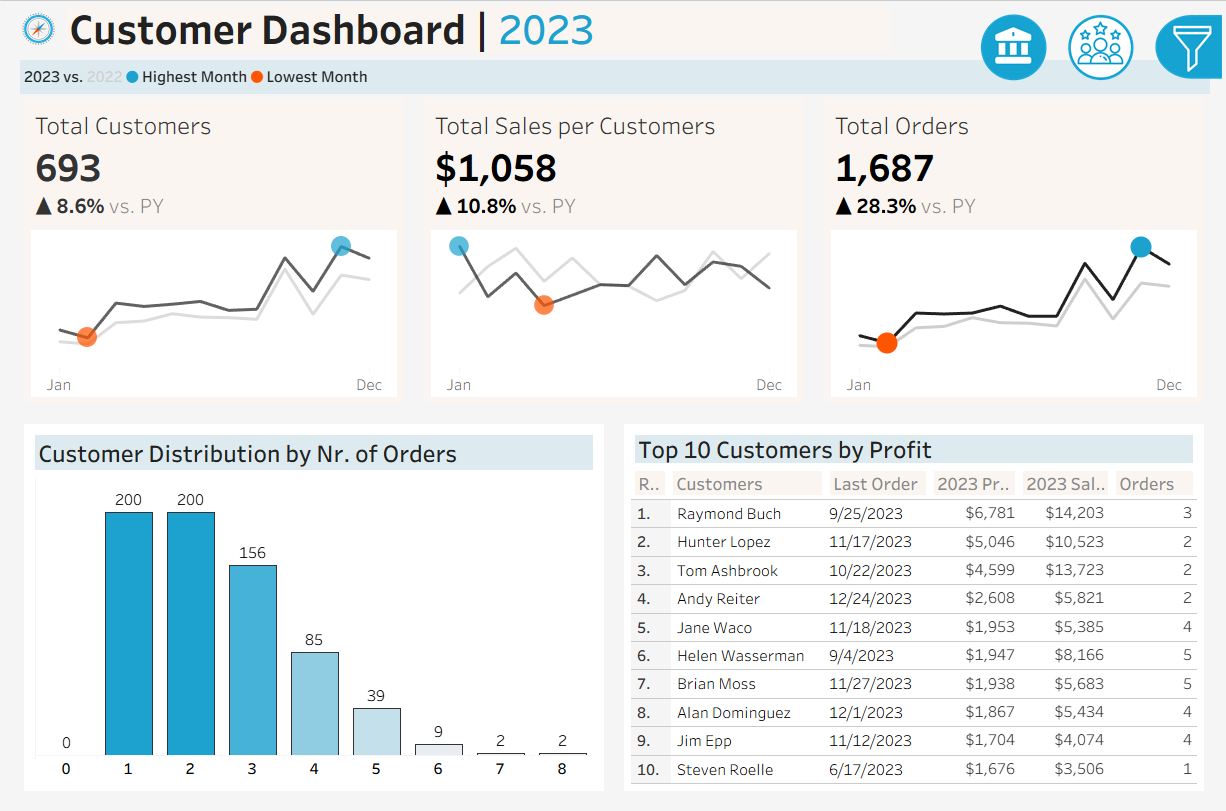

The dashboard page shown, as its layout file describes it:
{"tool":"tableau","page":{"name":"Customer Dashboard","canvas":[1200,800],"ordinal":0},"visuals":[{"type":"image","param":"C:/Users/HP Elitebook 830 G5/Desktop/Barra/Projects/Tableau/Sales Dashboard/Sale","box":[0,0,48,55]},{"type":"text","box":[48,0,832,55]},{"type":"dashboard-object","box":[955,8,88,76]},{"type":"dashboard-object","box":[1043,8,87,76]},{"type":"blank","box":[971,10,222,81]},{"type":"worksheet","title":"Legend KPI","mark":"Automatic","box":[0,55,1200,42]},{"type":"text","box":[971,91,222,47]},{"type":"worksheet","title":"KPI Customers","mark":"Line","rows":["Min/Max Profit (copy)_241787058667311113"],"cols":["Order Date"],"box":[0,97,400,316]},{"type":"worksheet","title":"KPI Sales/Customers","mark":"Automatic","rows":["Min/Max Orders (copy)_241787058667548683"],"cols":["Order Date"],"box":[400,97,400,316]},{"type":"worksheet","title":"KPI Orders","mark":"Line","rows":["Min/Max Customers (copy)_241787058667397130"],"cols":["Order Date"],"box":[800,97,400,316]},{"type":"parameter","param":"[Parameters].[Parameter 1]","box":[971,138,222,60]},{"type":"text","box":[971,198,222,39]},{"type":"filter","title":"KPI Customers","param":"[federated.1dxhorm0lmgu241a8lsme1jk4mp3].[none:Category:nk]","box":[971,237,222,70]},{"type":"filter","title":"KPI Customers","param":"[federated.1dxhorm0lmgu241a8lsme1jk4mp3].[none:Sub-Category:nk]","box":[971,307,222,70]},{"type":"blank","box":[971,377,222,65]},{"type":"text","box":[17,430,566,43]},{"type":"text","box":[617,430,566,35.6]},{"type":"text","box":[971,442,222,39]},{"type":"text","box":[617,465.6,38,32.4]},{"type":"text","box":[655,465.6,157,32.4]},{"type":"text","box":[812,465.6,104,32.4]},{"type":"text","box":[916,465.6,89,32.4]},{"type":"text","box":[1005,465.6,93,32.4]},{"type":"text","box":[1098,465.6,85,32.4]},{"type":"worksheet","title":"Customers Distribution","mark":"Bar","rows":["CY Profit (copy)_241787058661007360"],"cols":["Calculation_1404560187518042112"],"box":[17,473,566,310]},{"type":"filter","title":"KPI Customers","param":"[federated.1dxhorm0lmgu241a8lsme1jk4mp3].[none:Region:nk]","box":[971,481,222,70]},{"type":"worksheet","title":"Top Customers","mark":"Automatic","rows":["Calculation_1404560187523313667","Customer Name","Order Date"],"box":[617,498,566,285]},{"type":"filter","title":"KPI Customers","param":"[federated.1dxhorm0lmgu241a8lsme1jk4mp3].[none:State:nk]","box":[971,551,222,70]},{"type":"filter","title":"KPI Customers","param":"[federated.1dxhorm0lmgu241a8lsme1jk4mp3].[none:City:nk]","box":[971,621,222,70]}]}

Visuals, with their boxes in screenshot pixels (x1, y1, x2, y2), scaled from the page's 1200x800 canvas onto the 1226x811 screenshot:
image: Rect(0, 0, 49, 56)
text: Rect(49, 0, 899, 56)
dashboard-object: Rect(976, 8, 1066, 85)
dashboard-object: Rect(1066, 8, 1154, 85)
blank: Rect(992, 10, 1219, 92)
"Legend KPI" worksheet: Rect(0, 56, 1225, 98)
text: Rect(992, 92, 1219, 140)
"KPI Customers" worksheet (Line marks): Rect(0, 98, 409, 419)
"KPI Sales/Customers" worksheet: Rect(409, 98, 817, 419)
"KPI Orders" worksheet (Line marks): Rect(817, 98, 1225, 419)
parameter: Rect(992, 140, 1219, 201)
text: Rect(992, 201, 1219, 240)
"KPI Customers" filter: Rect(992, 240, 1219, 311)
"KPI Customers" filter: Rect(992, 311, 1219, 382)
blank: Rect(992, 382, 1219, 448)
text: Rect(17, 436, 596, 480)
text: Rect(630, 436, 1209, 472)
text: Rect(992, 448, 1219, 488)
text: Rect(630, 472, 669, 505)
text: Rect(669, 472, 830, 505)
text: Rect(830, 472, 936, 505)
text: Rect(936, 472, 1027, 505)
text: Rect(1027, 472, 1122, 505)
text: Rect(1122, 472, 1209, 505)
"Customers Distribution" worksheet (Bar marks): Rect(17, 480, 596, 794)
"KPI Customers" filter: Rect(992, 488, 1219, 559)
"Top Customers" worksheet: Rect(630, 505, 1209, 794)
"KPI Customers" filter: Rect(992, 559, 1219, 630)
"KPI Customers" filter: Rect(992, 630, 1219, 701)
